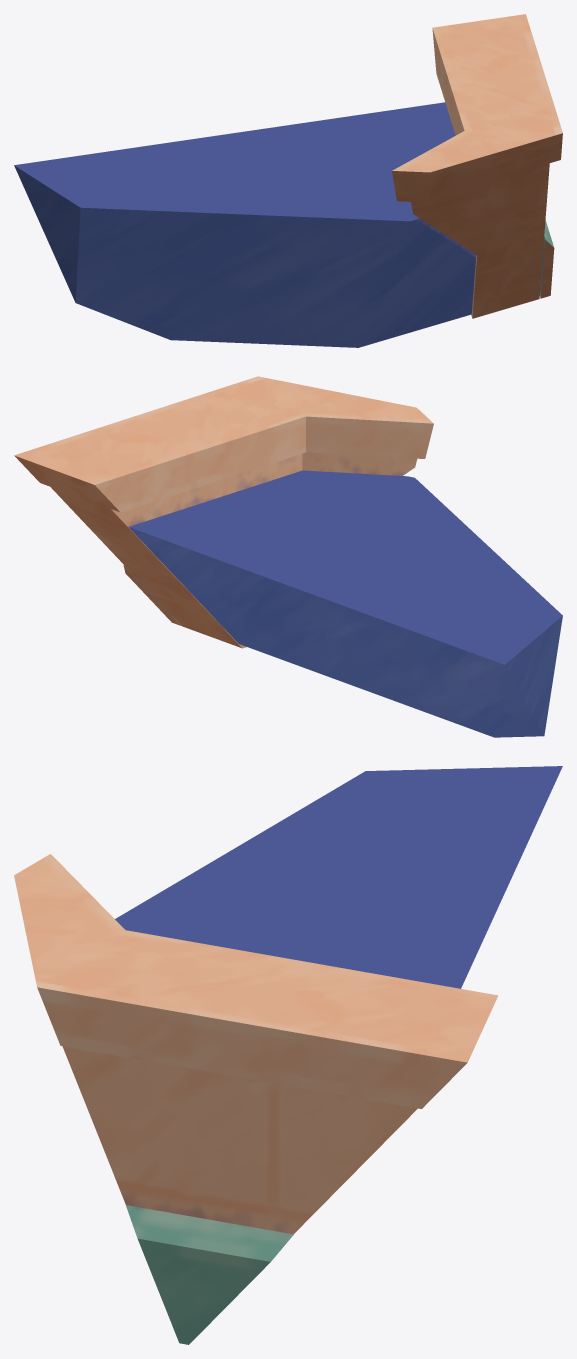
The model's file is vat_indigo_s03.fbx.
3 views of the same model, one above another, from view 1: azimuth 30°, elevation 25°; view 2: azimuth 150°, elevation 25°; view 3: azimuth 270°, elevation 25° (orthographic). The views are drawn at different scales.
Visible parts, largest first — view 1: vat_indigo_s03; view 2: vat_indigo_s03; view 3: vat_indigo_s03.
Boxes of the visible parts, x1,y1,x2,y2 form: vat_indigo_s03: (14, 14, 562, 347); vat_indigo_s03: (14, 376, 562, 737); vat_indigo_s03: (14, 766, 562, 1344).
Size of the model in its own units: 4.25 by 1.7 by 2.55.
